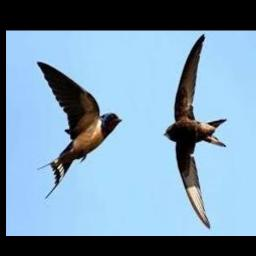Swallow: (164, 35, 227, 229), (37, 61, 122, 197)
